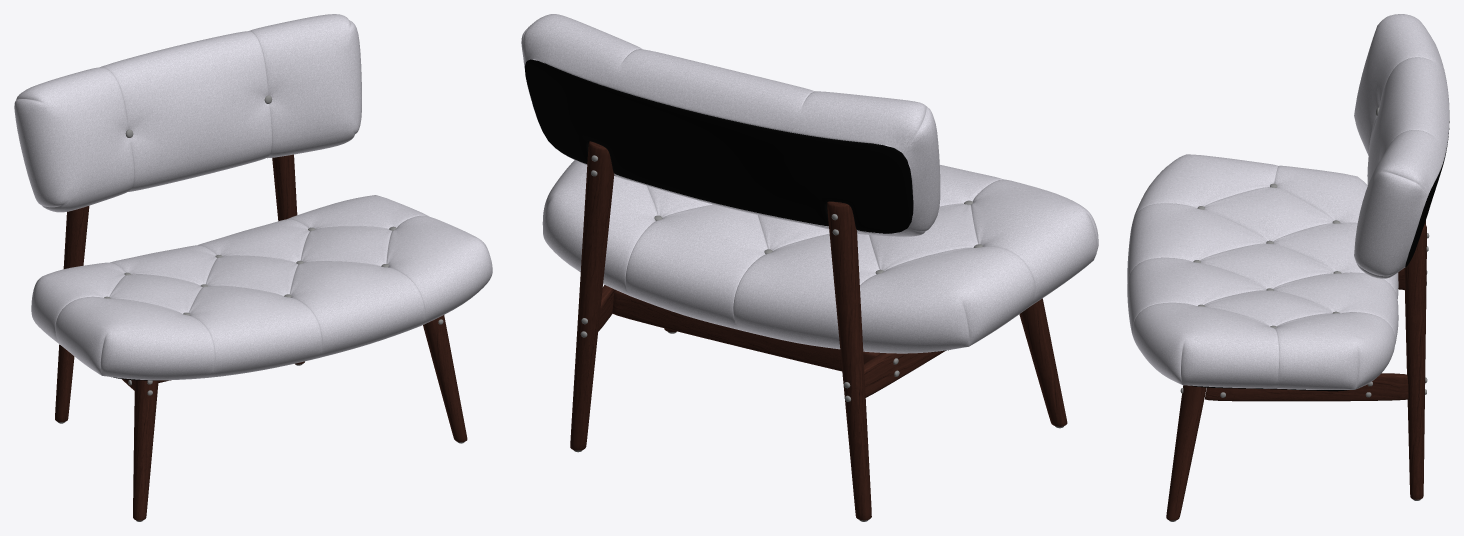
File: MaterialsVariantsChair.gltf
3 views of the same model, side by side, from view 1: azimuth 30°, elevation 25°; view 2: azimuth 150°, elevation 25°; view 3: azimuth 270°, elevation 25° (orthographic). The views are drawn at different scales.
Visible parts, largest first — view 1: fabric, frame; view 2: fabric, panels, frame; view 3: fabric, frame, panels.
Boxes of the visible parts, x1,y1,x2,y2 form: fabric: (14,14,492,380); frame: (55,154,467,520); fabric: (521,14,1098,353); panels: (524,59,948,352); frame: (570,141,1067,520); fabric: (1127,14,1449,389); frame: (1166,220,1426,520); panels: (1190,121,1449,391).
Size of the model in its own units: 3.25 by 2.7 by 2.24.
Materials: 4 (2 with a texture image).
